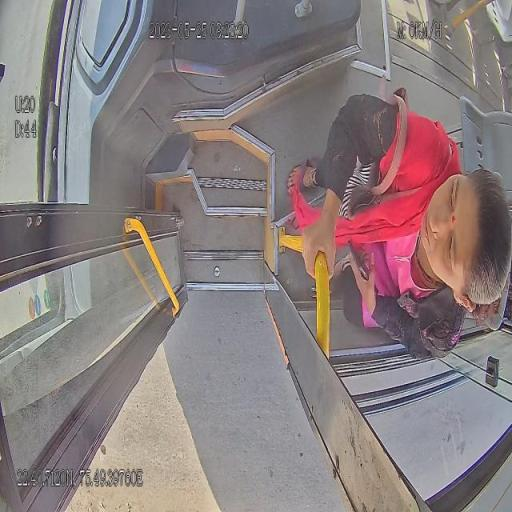persona: (286, 86, 512, 362)
